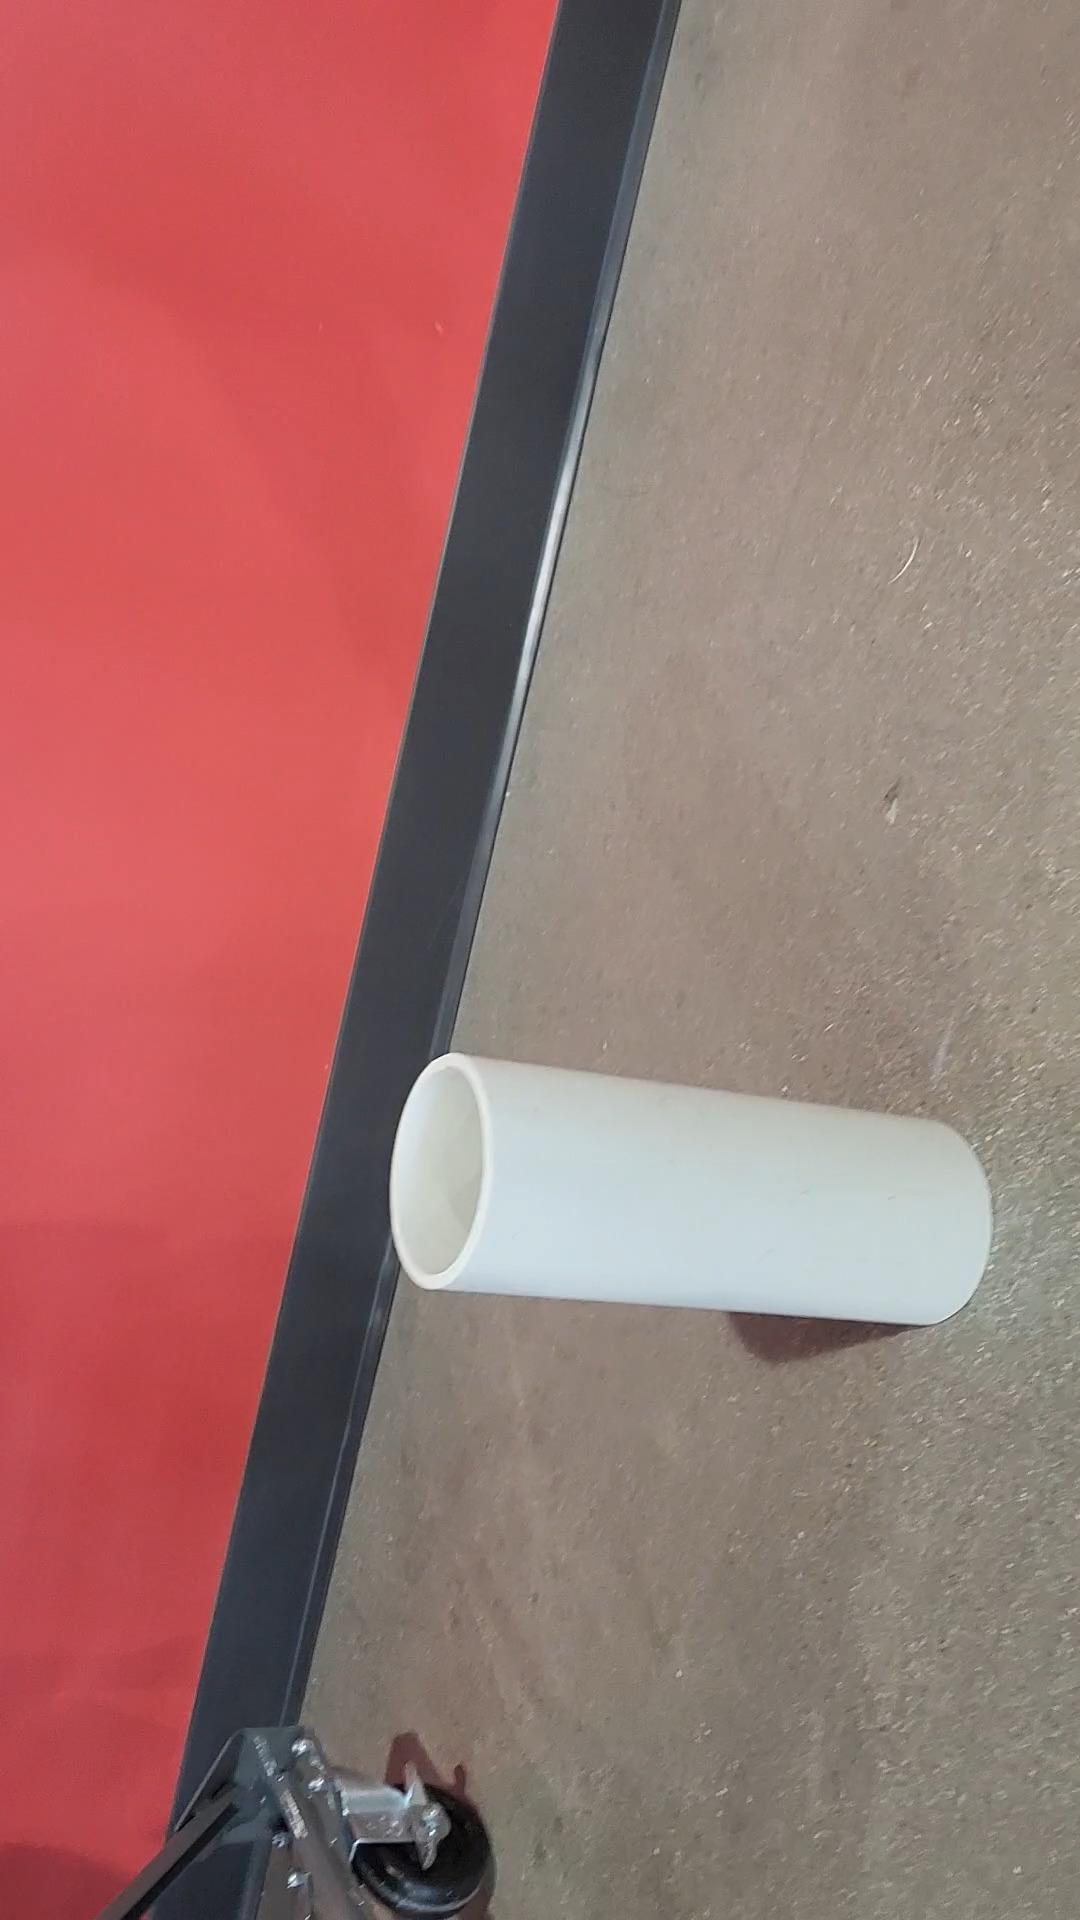coral: (390, 1044, 1007, 1340)
